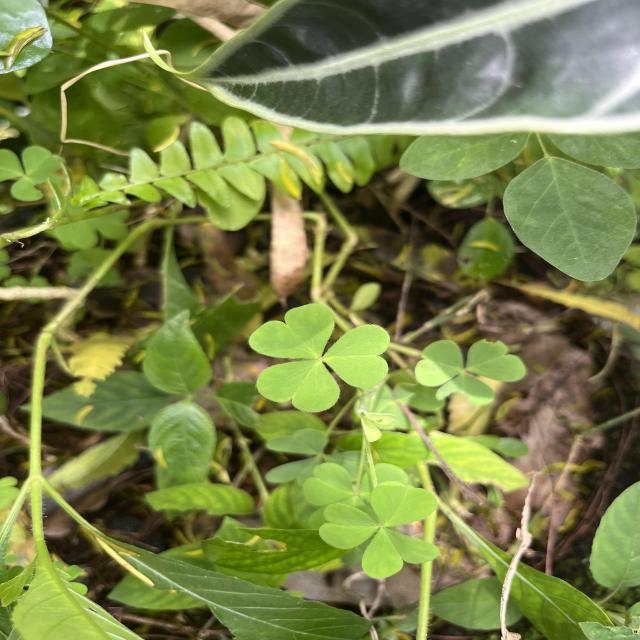Oxalis corniculata: (246, 301, 392, 415), (318, 480, 441, 580), (414, 336, 526, 406)
